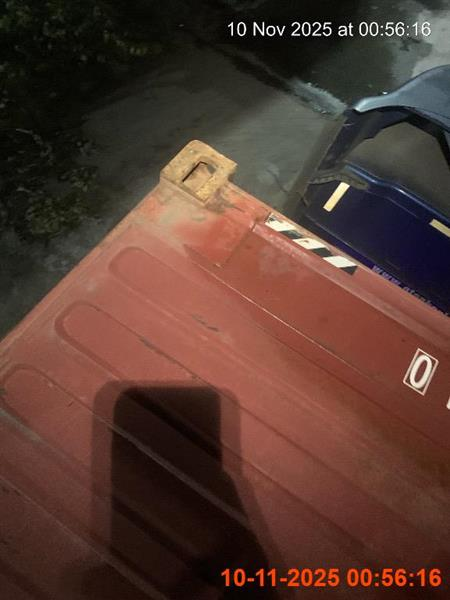broken: (0, 74, 449, 599)
